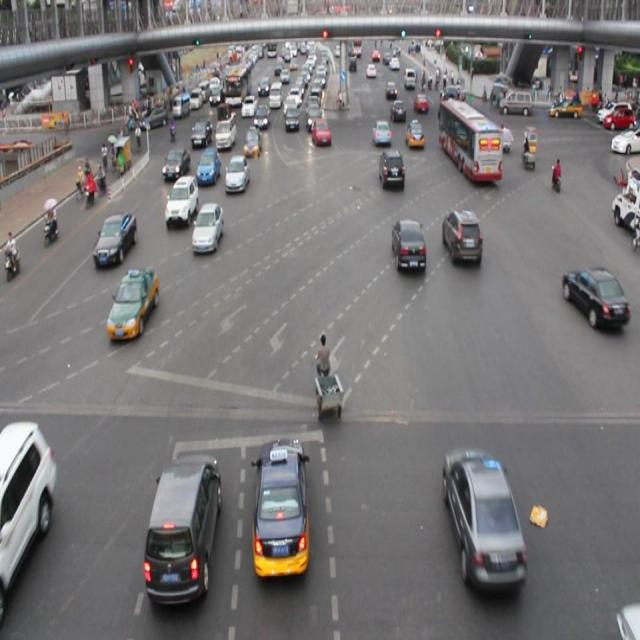car: (444, 448, 522, 588), (1, 420, 51, 609), (252, 437, 310, 581), (561, 267, 627, 330), (107, 268, 158, 338), (442, 208, 482, 266), (95, 211, 135, 265), (390, 217, 427, 275), (165, 175, 199, 228), (192, 203, 224, 254), (379, 151, 405, 193), (196, 146, 220, 189), (225, 154, 250, 194), (163, 146, 189, 178), (242, 125, 262, 161), (190, 118, 211, 149), (405, 118, 424, 150), (372, 119, 391, 146), (312, 118, 329, 147)
truck: (144, 452, 221, 606), (214, 103, 234, 149)
van: (438, 99, 501, 183)
